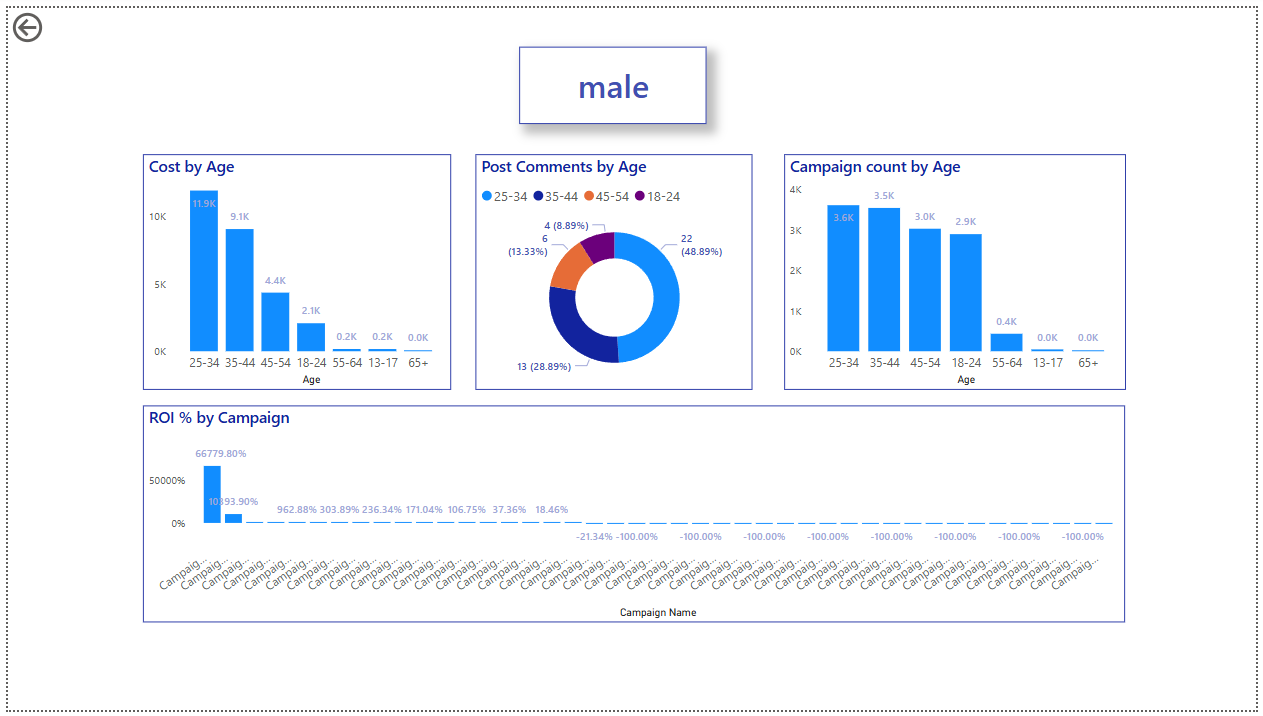

This screenshot's page, from the dashboard's own definition file:
{"tool":"powerbi","page":{"name":"DT","canvas":[1280,720],"ordinal":2},"visuals":[{"type":"actionButton","box":[0,0,100,40],"z":0},{"type":"columnChart","title":"Cost by Age","fields":{"Category":["Facebook Ads.Age"],"Y":["Sum(Facebook Ads.Cost)"],"Series":["Facebook Ads.Gender"]},"box":[138.2,150.2,316.2,241.2],"z":1000},{"type":"donutChart","title":"Post Comments by Age","fields":{"Y":["Sum(Facebook Ads.Post Comments)"],"Category":["Facebook Ads.Age"],"Series":["Facebook Ads.Gender"]},"box":[479.5,150.2,283.8,241.2],"z":2000},{"type":"columnChart","title":"Campaign count by Age","fields":{"Category":["Facebook Ads.Age"],"Y":["CountNonNull(Facebook Ads.Campaign Name)"],"Series":["Facebook Ads.Gender"]},"box":[795.7,150.2,350,241.2],"z":3000},{"type":"card","fields":{"Values":["Min(Facebook Ads.Gender)"]},"box":[524.6,40.4,192,79.5],"z":4000},{"type":"clusteredColumnChart","title":"ROI % by Campaign","fields":{"Category":["Facebook Ads.Campaign Name"],"Y":["Facebook Ads.ROI %"]},"box":[138.2,407.7,1007.5,222.5],"z":5000}]}

Visuals, with their boxes in screenshot pixels (x1, y1, x2, y2), scaled from the page's 1280x720 canvas onto the 1263x716 screenshot:
actionButton: detection(0, 0, 99, 40)
"Cost by Age" columnChart: detection(136, 149, 448, 389)
"Post Comments by Age" donutChart: detection(473, 149, 753, 389)
"Campaign count by Age" columnChart: detection(785, 149, 1130, 389)
card - Min(Facebook Ads.Gender): detection(518, 40, 707, 119)
"ROI % by Campaign" clusteredColumnChart: detection(136, 405, 1130, 627)
